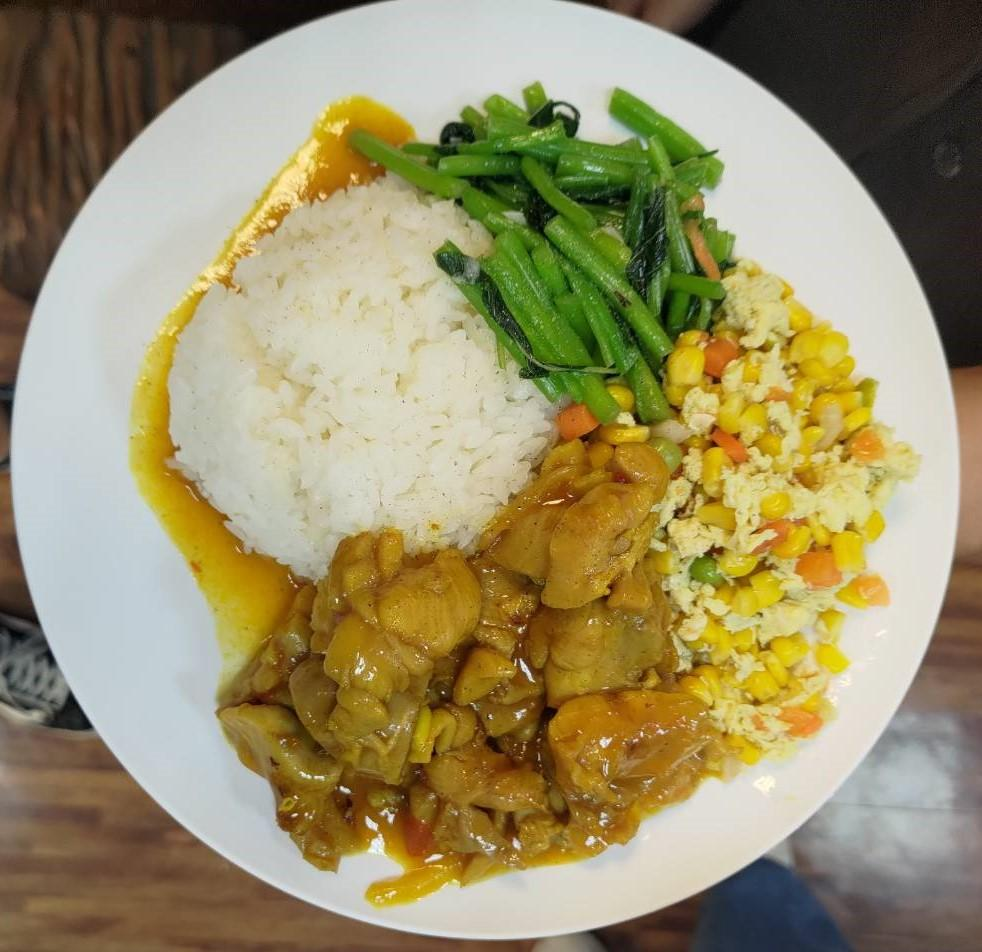big fried chicken leg: (8, 14, 973, 940)
big herbal chicken leg: (172, 194, 559, 568)
braised fish fillet: (597, 255, 892, 750), (406, 92, 739, 430)
braised pork: (234, 448, 698, 876)
